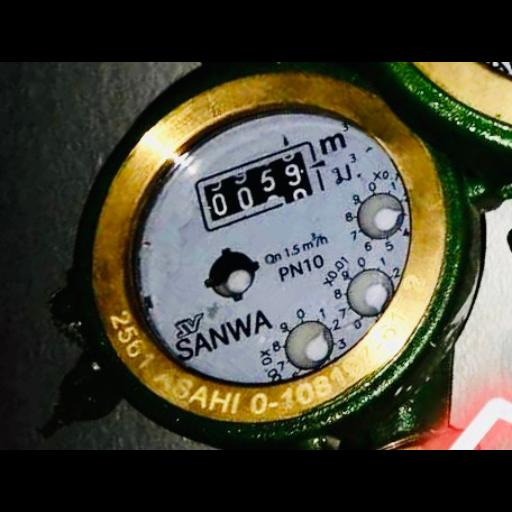0: (221, 170, 259, 215), (200, 180, 235, 222)
5: (246, 161, 284, 205)
9: (269, 150, 315, 204)
border_water_meter_number: (187, 139, 327, 233)
